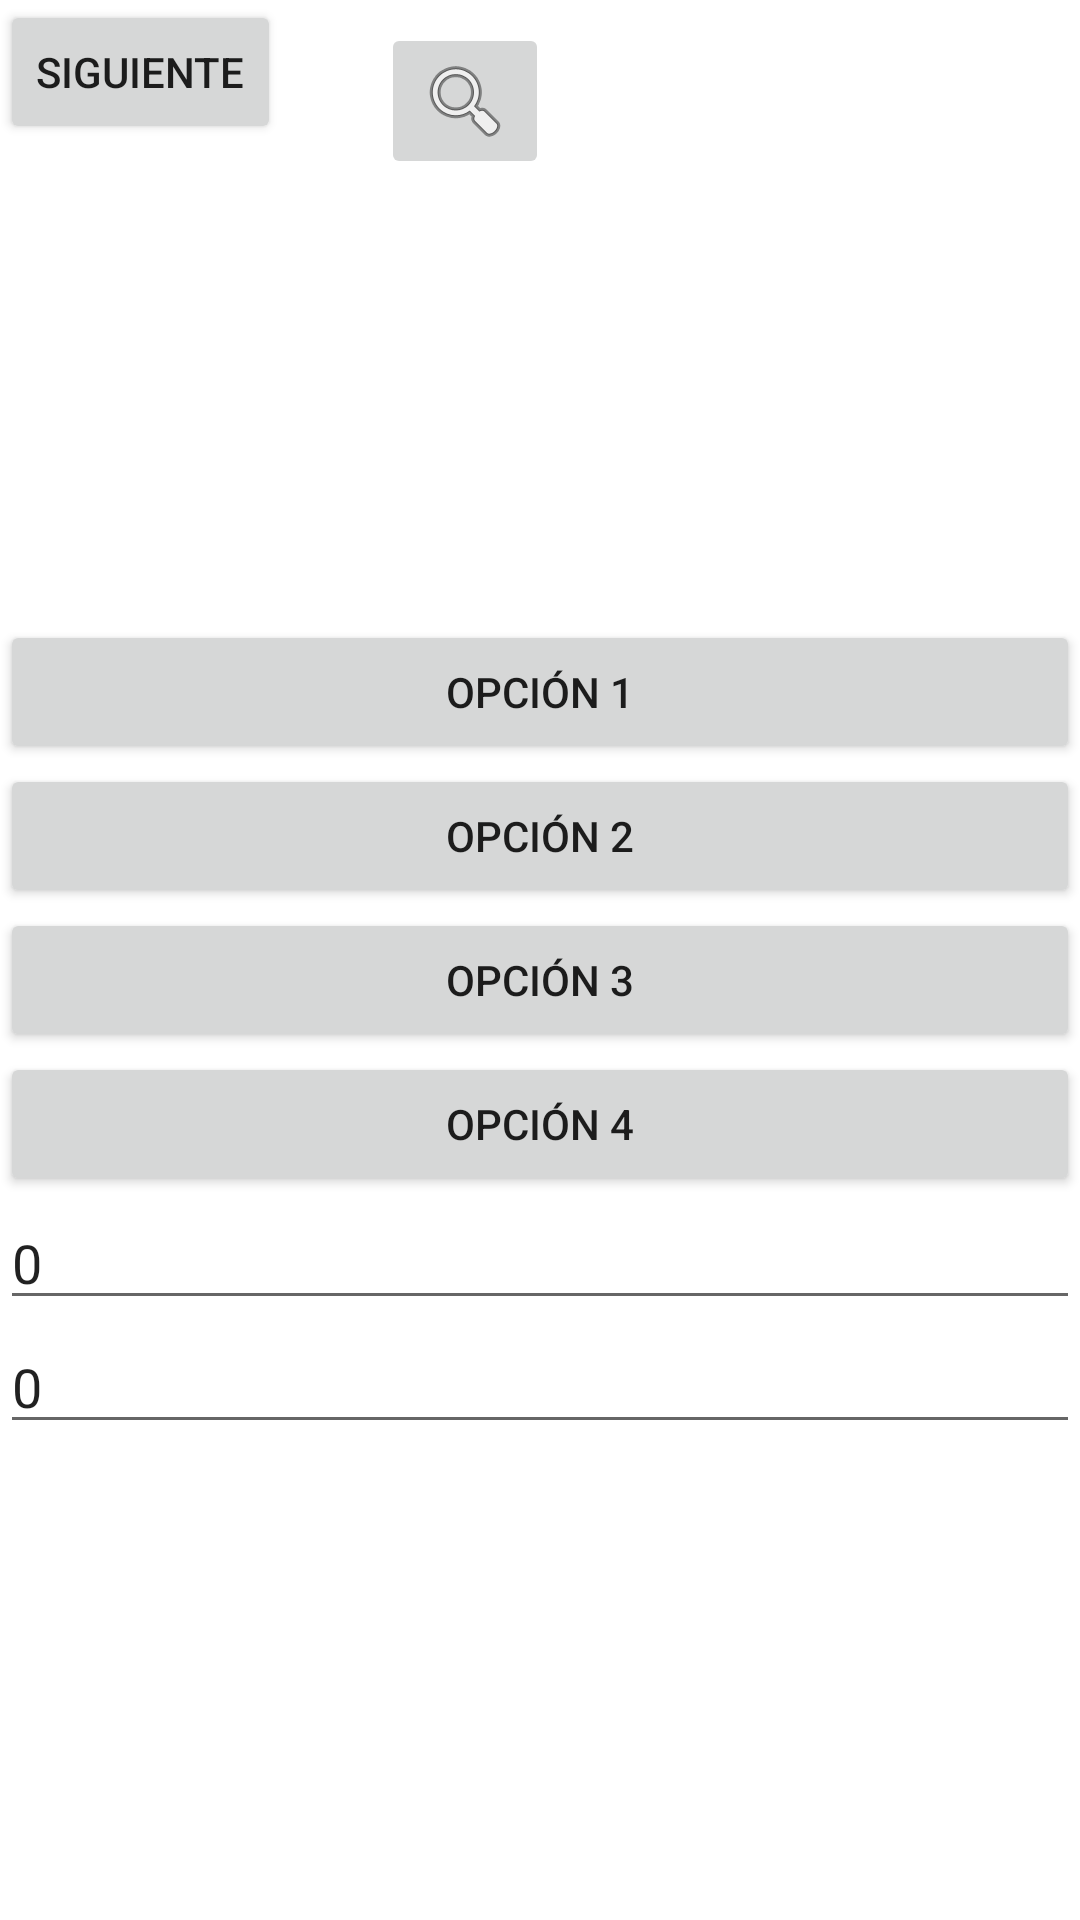

Screen size 1080px x 1920px. Icon name, then its center in pixels as [x,y]:
search: [465,101]
